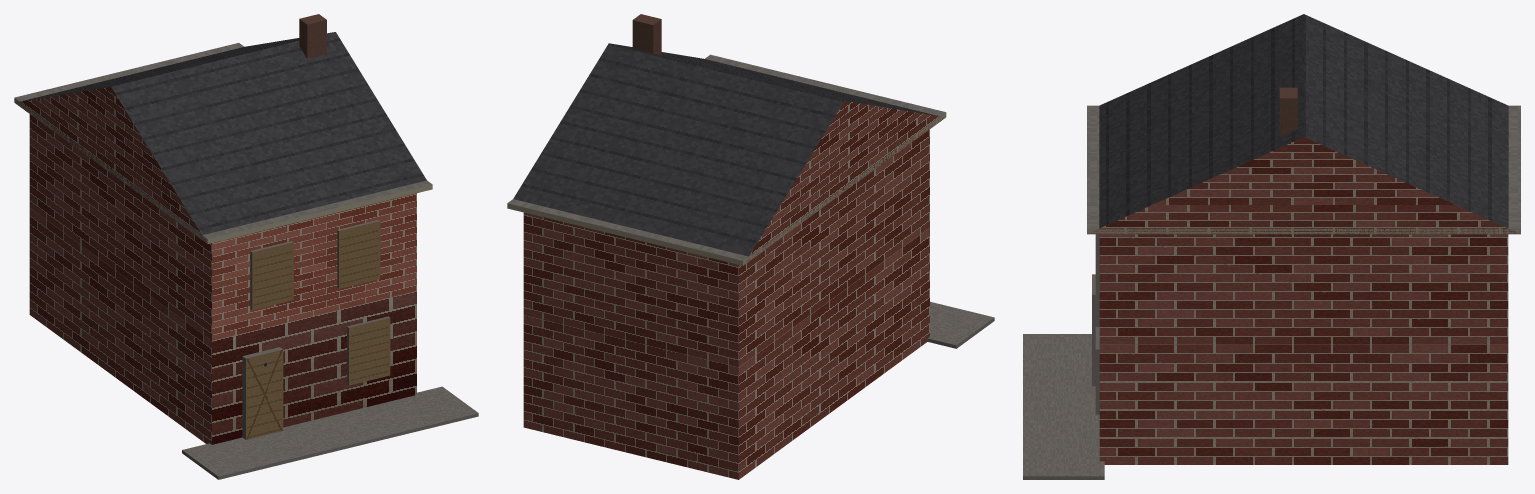
File: building_terrace_boarded.glb
3 renders of one model, left to right at view 1: azimuth 30°, elevation 25°; view 2: azimuth 150°, elevation 25°; view 3: azimuth 270°, elevation 25°, orthographic. The views are drawn at different scales.
Visible parts, largest first — view 1: Building_Terrace_boarded; view 2: Building_Terrace_boarded; view 3: Building_Terrace_boarded.
Part boxes in pixels (x1,y1,x2,y2): Building_Terrace_boarded: (14,14,478,479); Building_Terrace_boarded: (507,14,994,479); Building_Terrace_boarded: (1023,14,1520,479).
Size of the model in its own units: 6.6 by 7.8 by 9.75.
Materials: 1 (1 with a texture image).
